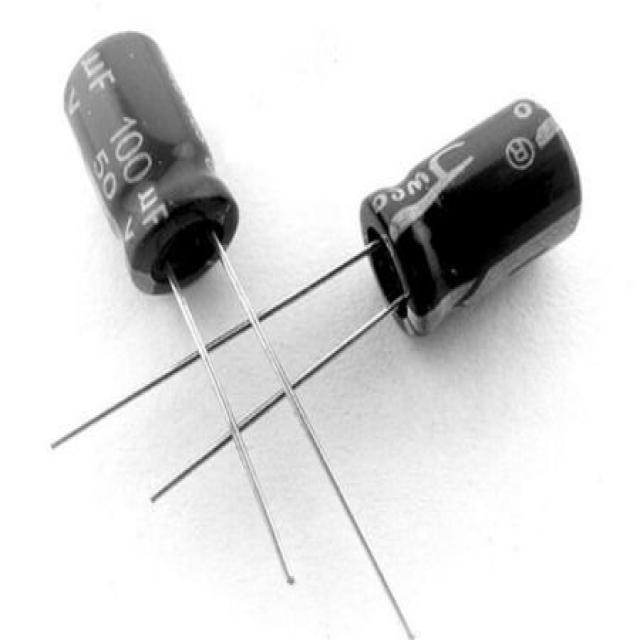Capacitor: (65, 32, 411, 636), (272, 100, 581, 377)
